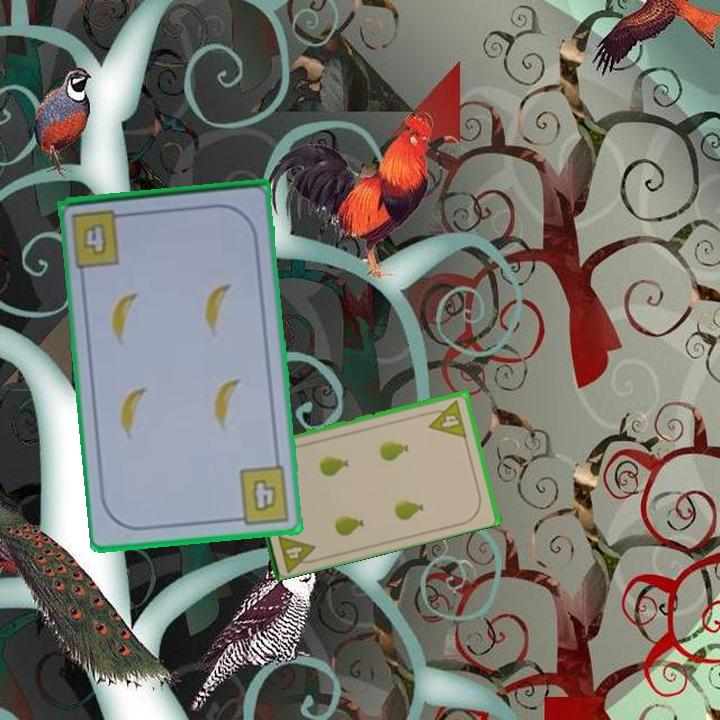4b: (67, 206, 133, 270), (229, 462, 293, 527)
4p: (274, 529, 322, 573), (423, 396, 469, 440)
